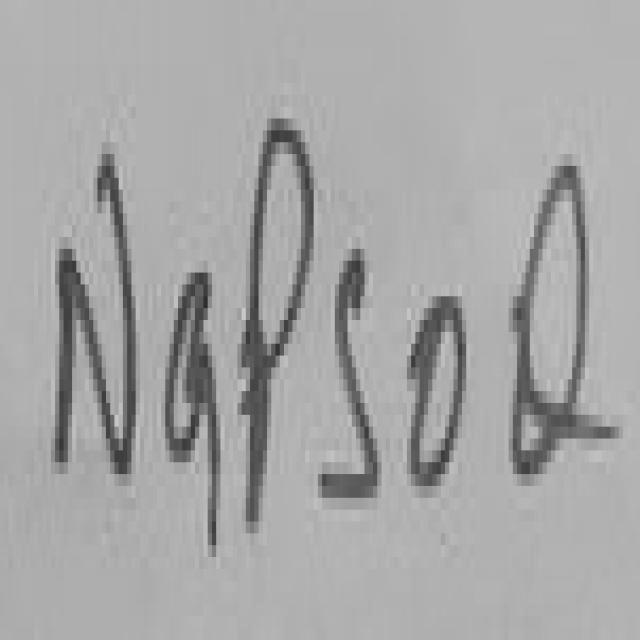N: (55, 154, 136, 474)
a: (165, 273, 220, 551)
l: (517, 166, 615, 482)
o: (411, 296, 466, 486)
p: (247, 119, 314, 527)
s: (322, 249, 381, 492)
